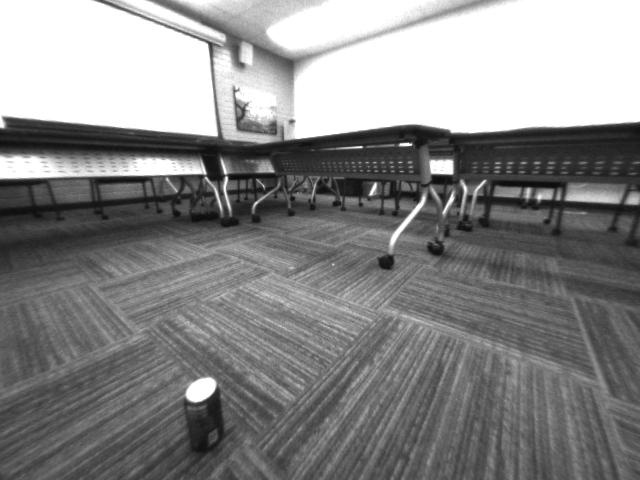can: (177, 374, 229, 453)
